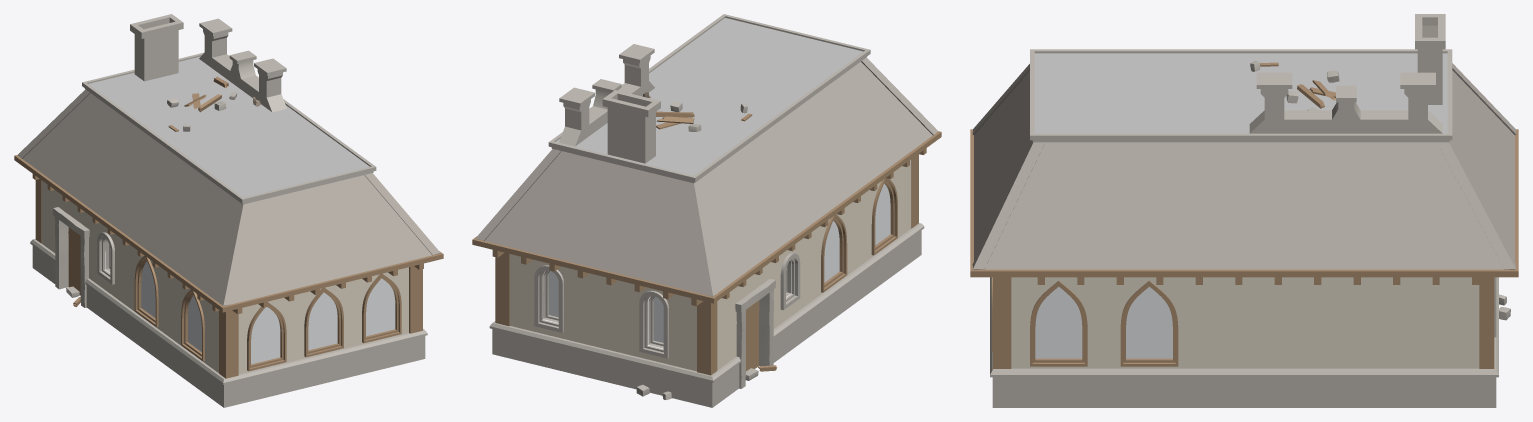
File: kb3d_bldg_sm_f.glb
The picture shows the model from 3 angles, left to right: view 1: azimuth 30°, elevation 25°; view 2: azimuth 150°, elevation 25°; view 3: azimuth 270°, elevation 25°; orthographic projection. The views are drawn at different scales.
Visible parts, largest first — view 1: EXPORT_kb3d_bldg_sm_f; view 2: EXPORT_kb3d_bldg_sm_f; view 3: EXPORT_kb3d_bldg_sm_f.
Part boxes in pixels (x1,y1,x2,y2): EXPORT_kb3d_bldg_sm_f: [14, 14, 443, 407]; EXPORT_kb3d_bldg_sm_f: [472, 14, 941, 407]; EXPORT_kb3d_bldg_sm_f: [970, 14, 1518, 407].
Size of the model in its own units: 5.86 by 6.06 by 9.56.
